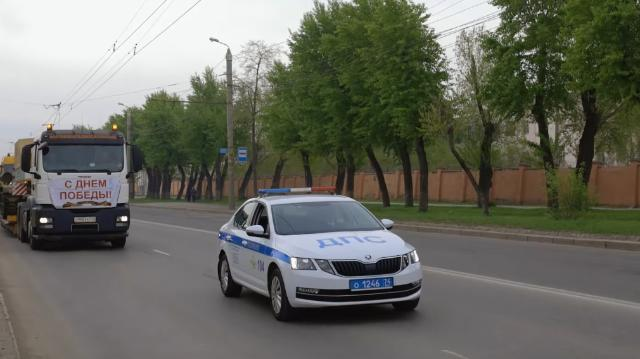non emergency car: (18, 125, 133, 249)
police car: (219, 186, 424, 322)
